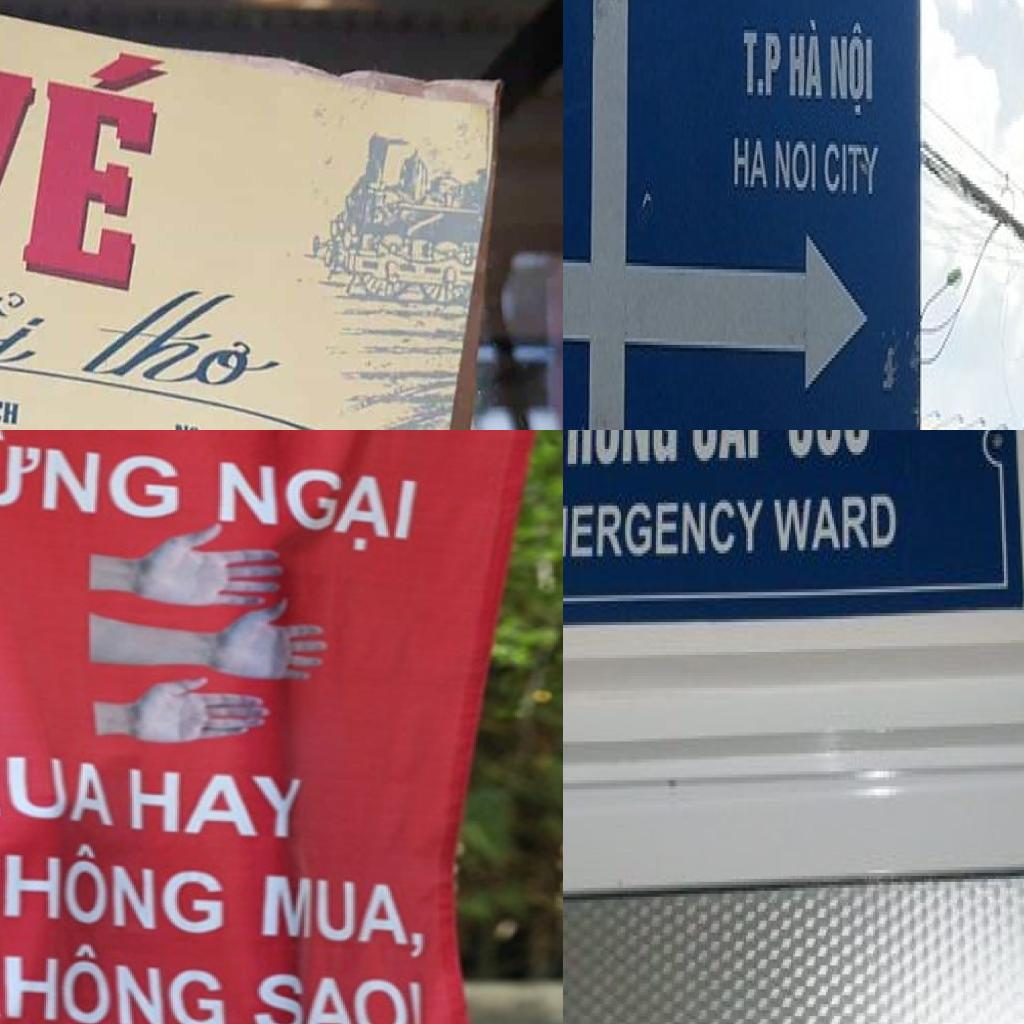text: (0, 0, 169, 294), (57, 276, 303, 404), (193, 454, 429, 560), (0, 833, 230, 937), (0, 935, 228, 1024), (247, 869, 435, 963), (0, 430, 185, 523), (563, 490, 764, 571), (124, 765, 310, 844), (244, 970, 431, 1024), (0, 748, 120, 832), (0, 250, 78, 368), (563, 430, 682, 475), (828, 20, 876, 122), (686, 430, 778, 469), (780, 430, 877, 466), (787, 17, 826, 105), (743, 26, 785, 106), (773, 135, 819, 200), (732, 131, 770, 194), (0, 386, 21, 427), (171, 420, 202, 430)
